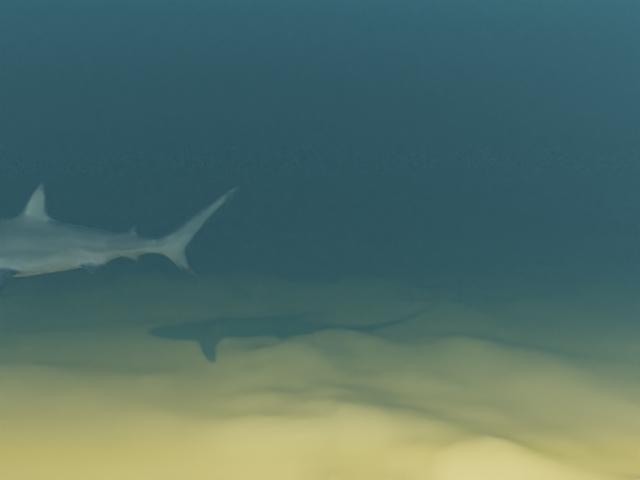Carribean Shark.001: (0, 183, 239, 299)
